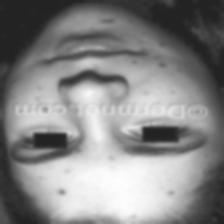Non-Cancerous Skin Condition: (113, 48, 182, 94), (18, 175, 100, 201), (72, 121, 124, 161), (146, 181, 182, 212), (88, 8, 134, 28), (12, 85, 48, 100), (114, 210, 142, 224)
